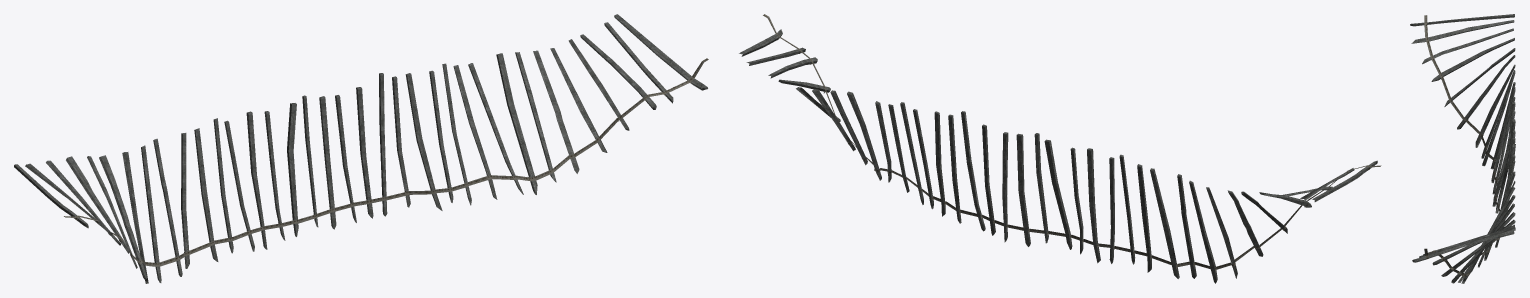
File: caen_fence_3.glb
3 renders of one model, left to right at view 1: azimuth 30°, elevation 25°; view 2: azimuth 150°, elevation 25°; view 3: azimuth 270°, elevation 25°, orthographic. The views are drawn at different scales.
Bounding box in the file's own units: 275 × 56.53 × 52.45.
1 material, 1 textured.
